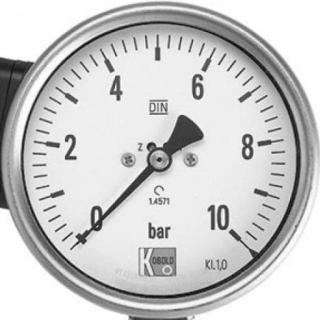gauge: (0, 0, 320, 320), (66, 203, 108, 255), (214, 216, 249, 250), (146, 147, 172, 173), (68, 238, 82, 252)
